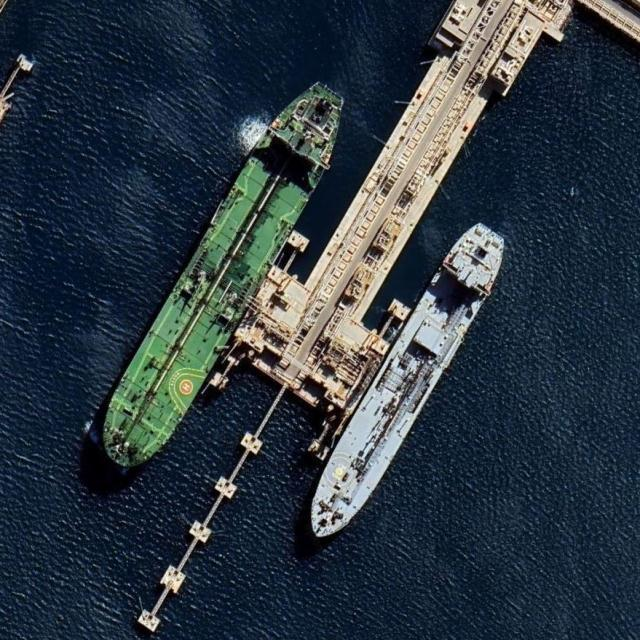ship2: (100, 86, 342, 471), (307, 226, 505, 541)
